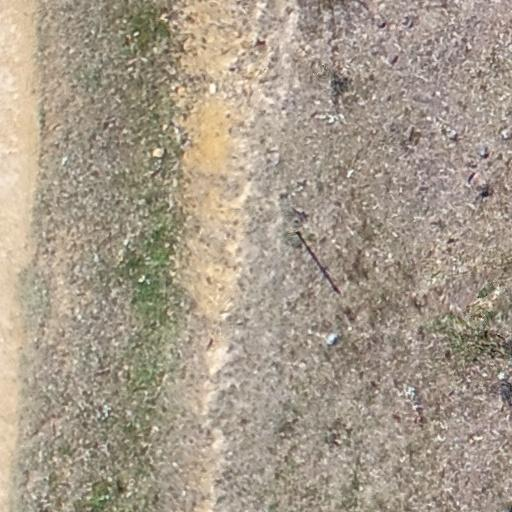stone: (150, 147, 168, 159), (481, 148, 490, 159)
